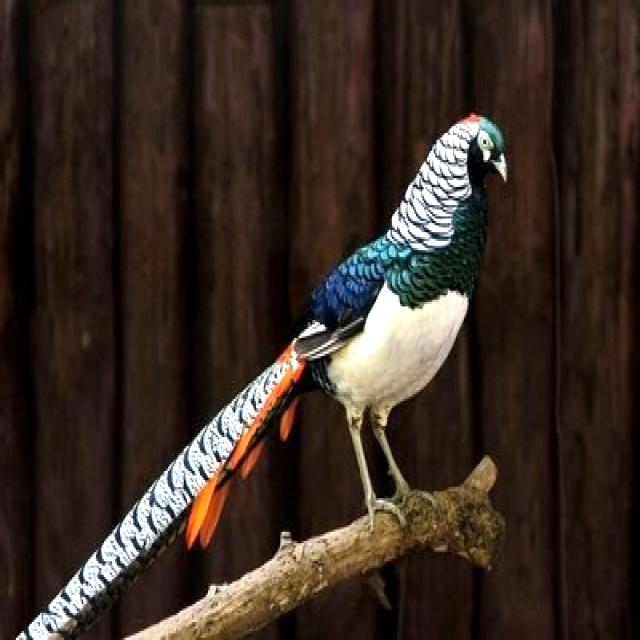Chrysolophus amherstiae: (16, 338, 296, 638)
